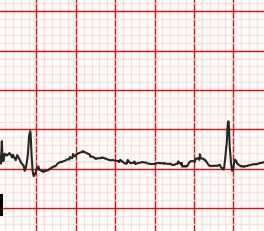LVH: (58, 143, 111, 165)
